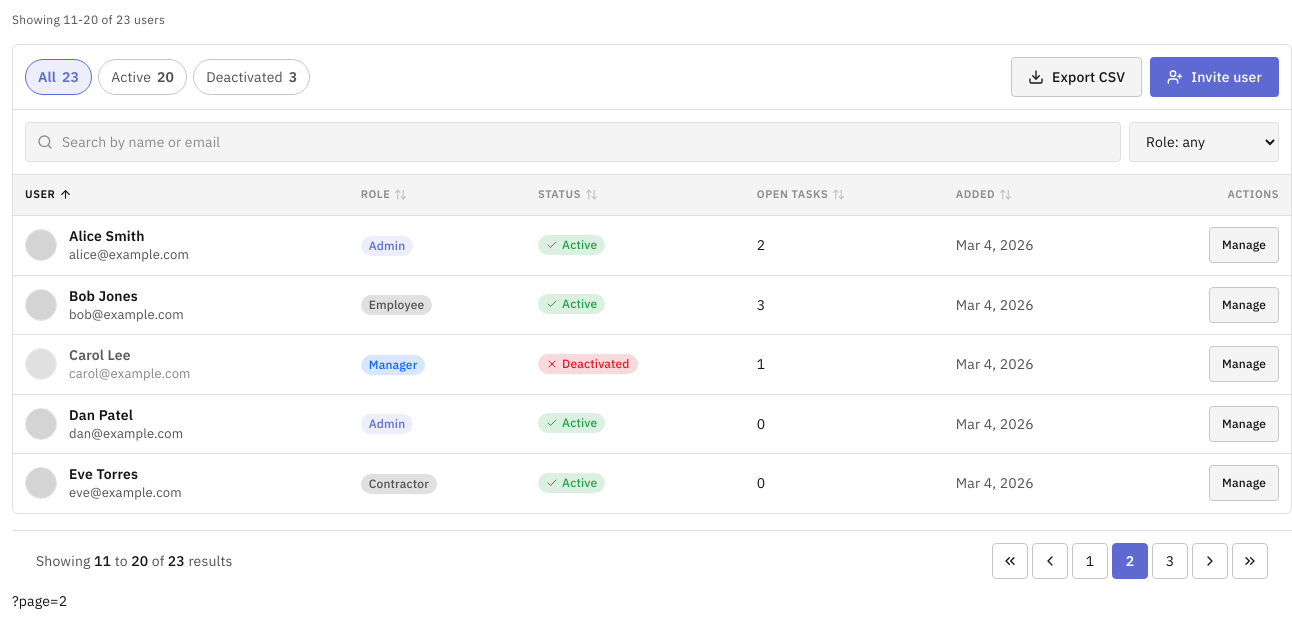
UserManagement (table) › TC-U03: status chips, role select and search send the right params and go back to page 1
Expected: the text "Bob Jones" is shown, 69,286 -> 138,304
Click the button "Deactivated 3" at (252, 77), box 193,59 -> 310,95
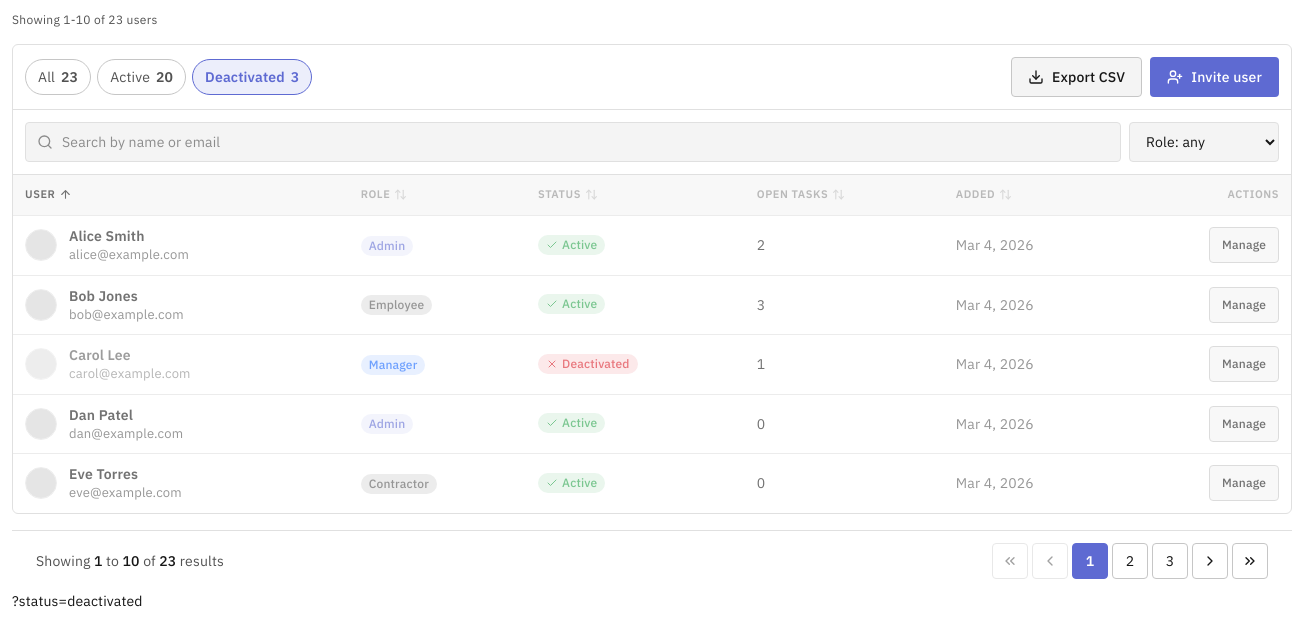
Result: the text with test id "where" reads "?status=deactivated" at 12,592 -> 143,610
Select "Manager" in the dropdown named "Filter by role" at (1204, 142), box 1129,122 -> 1279,162
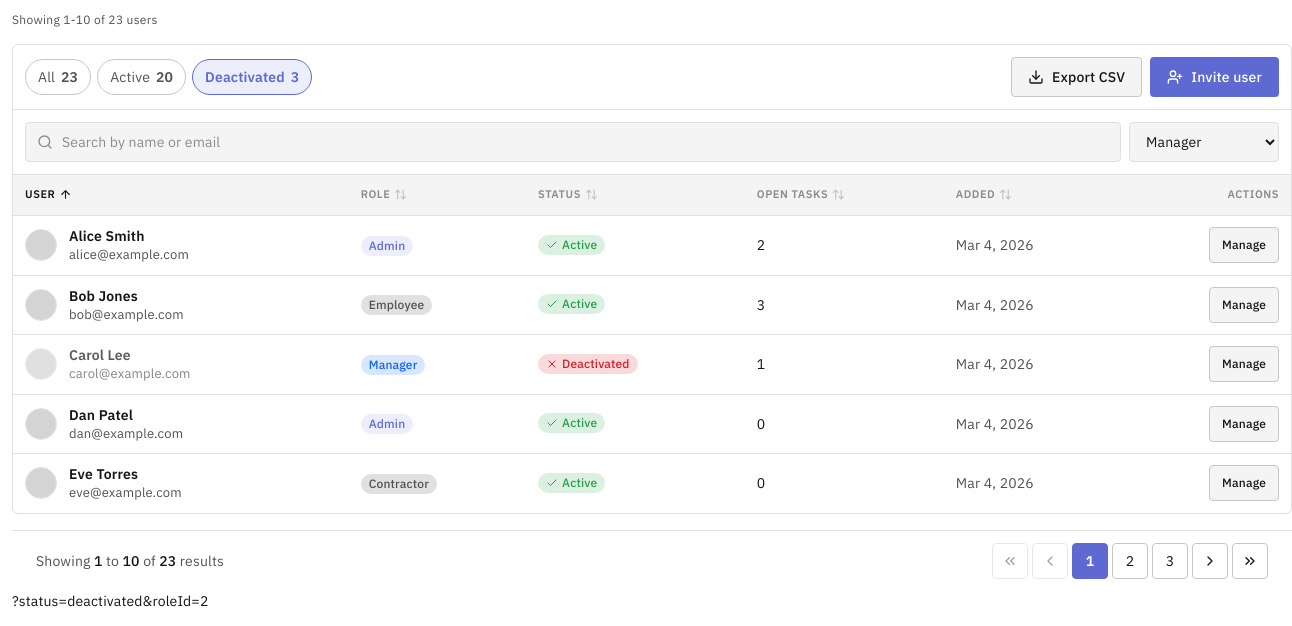
Type "bob" into the search field named "Search users" at (573, 142), box 25,122 -> 1121,162
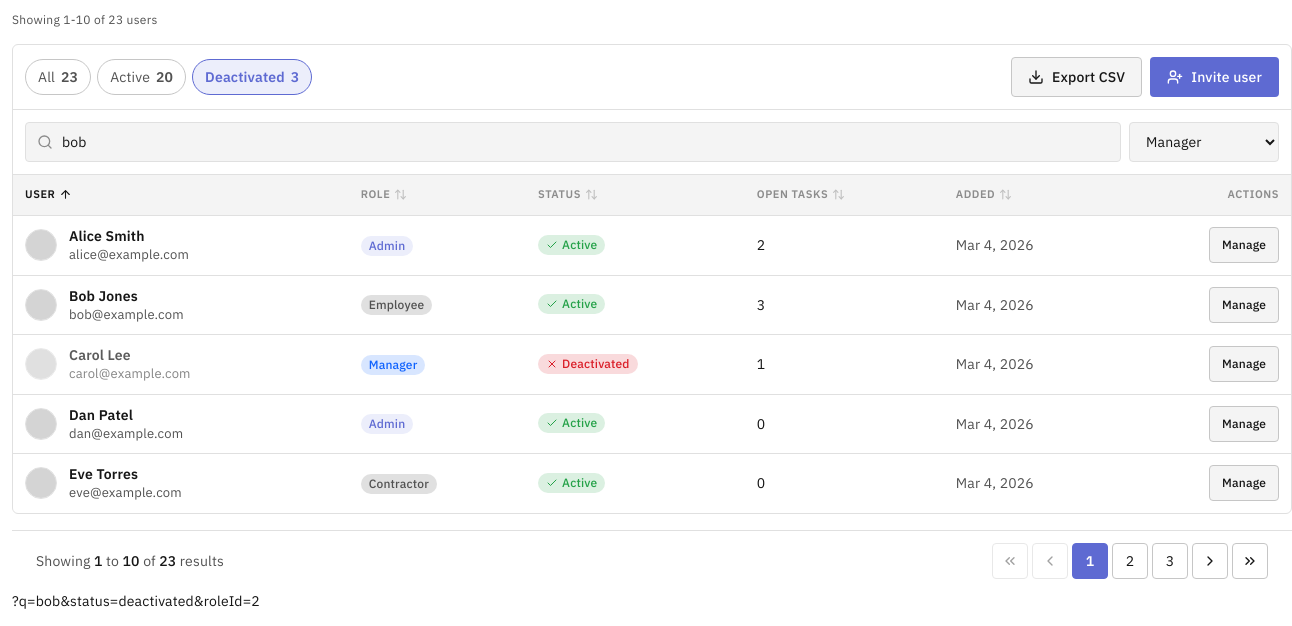
Result: the text with test id "where" reads "?q=bob&status=deactivated&roleId=2" at 12,592 -> 260,610
